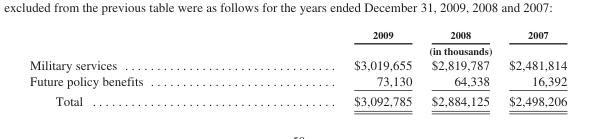table: (28, 28, 566, 108)
table column: (28, 28, 247, 108), (247, 28, 421, 108), (421, 28, 498, 108), (498, 28, 566, 108)
table column header: (28, 28, 566, 56)
table row: (28, 72, 566, 90), (28, 90, 566, 108), (28, 56, 566, 72), (28, 28, 566, 42), (28, 42, 566, 56)
table spanning cell: (247, 42, 566, 56)
